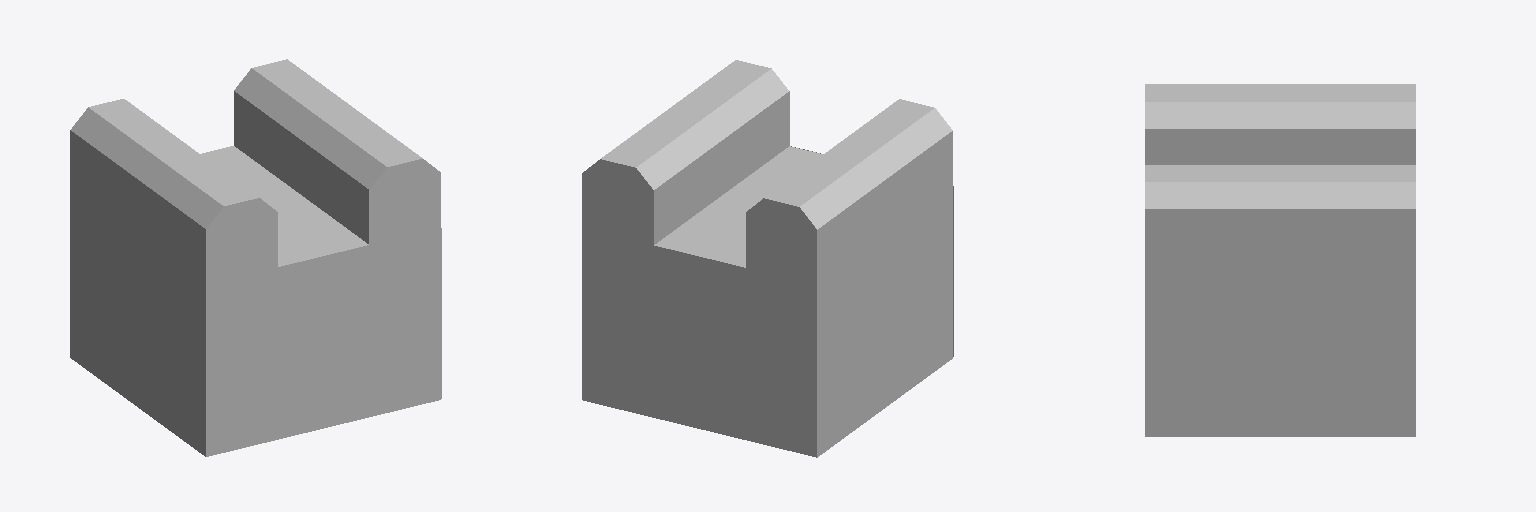
File: player.obj
3 renders of one model, left to right at view 1: azimuth 30°, elevation 25°; view 2: azimuth 150°, elevation 25°; view 3: azimuth 270°, elevation 25°, orthographic.
Parts seen in each view (by area): view 1: Cube, 平面; view 2: Cube; view 3: Cube.
Boxes of the visible parts, box(x1,y1,x2,y2) form: Cube: box(70, 59, 440, 456); 平面: box(207, 228, 441, 455); Cube: box(582, 60, 952, 457); Cube: box(1145, 84, 1415, 436).
Bounding box in the file's own units: 2 × 2 × 2.01.